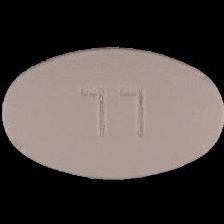68084-511: (0, 0, 224, 224)
